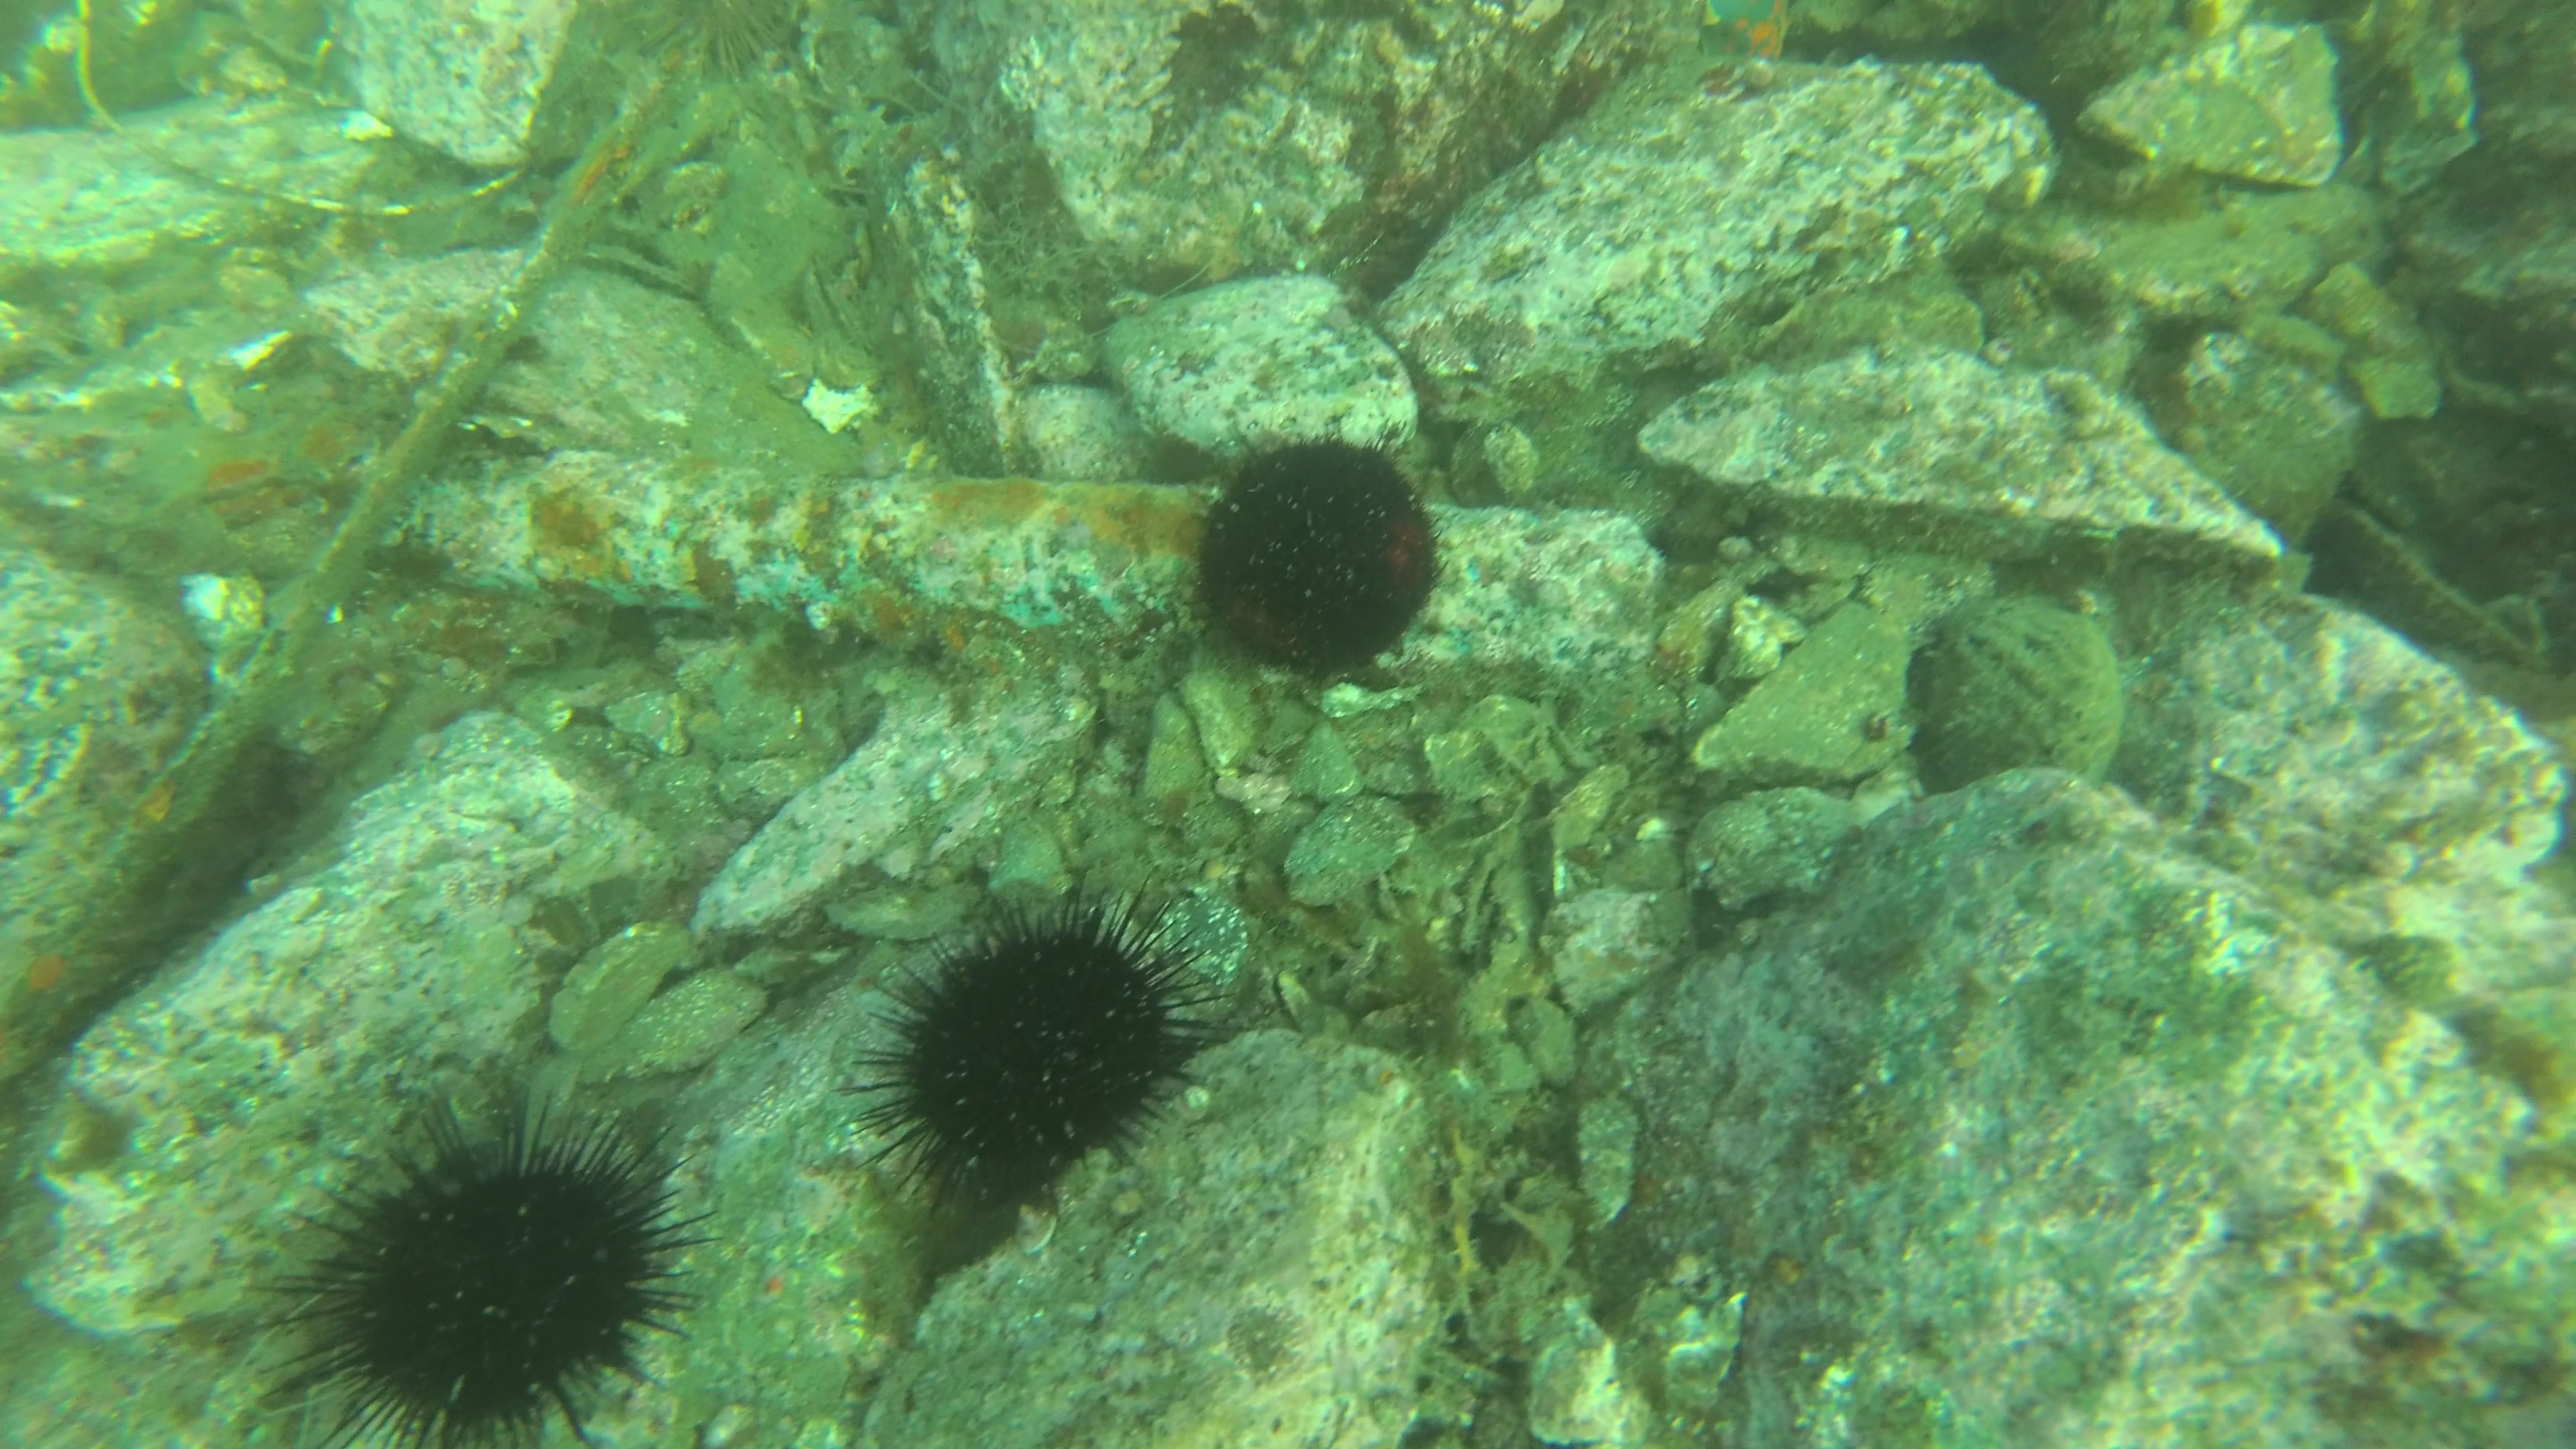echinus: (269, 1086, 713, 1449), (840, 897, 1207, 1215), (1178, 419, 1445, 692)
starfish: (1690, 0, 1803, 64)
